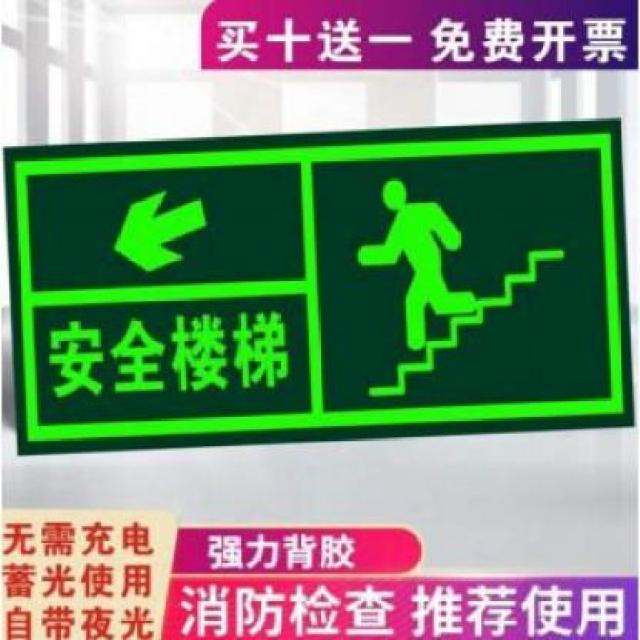exit_sign: (12, 123, 640, 442)
